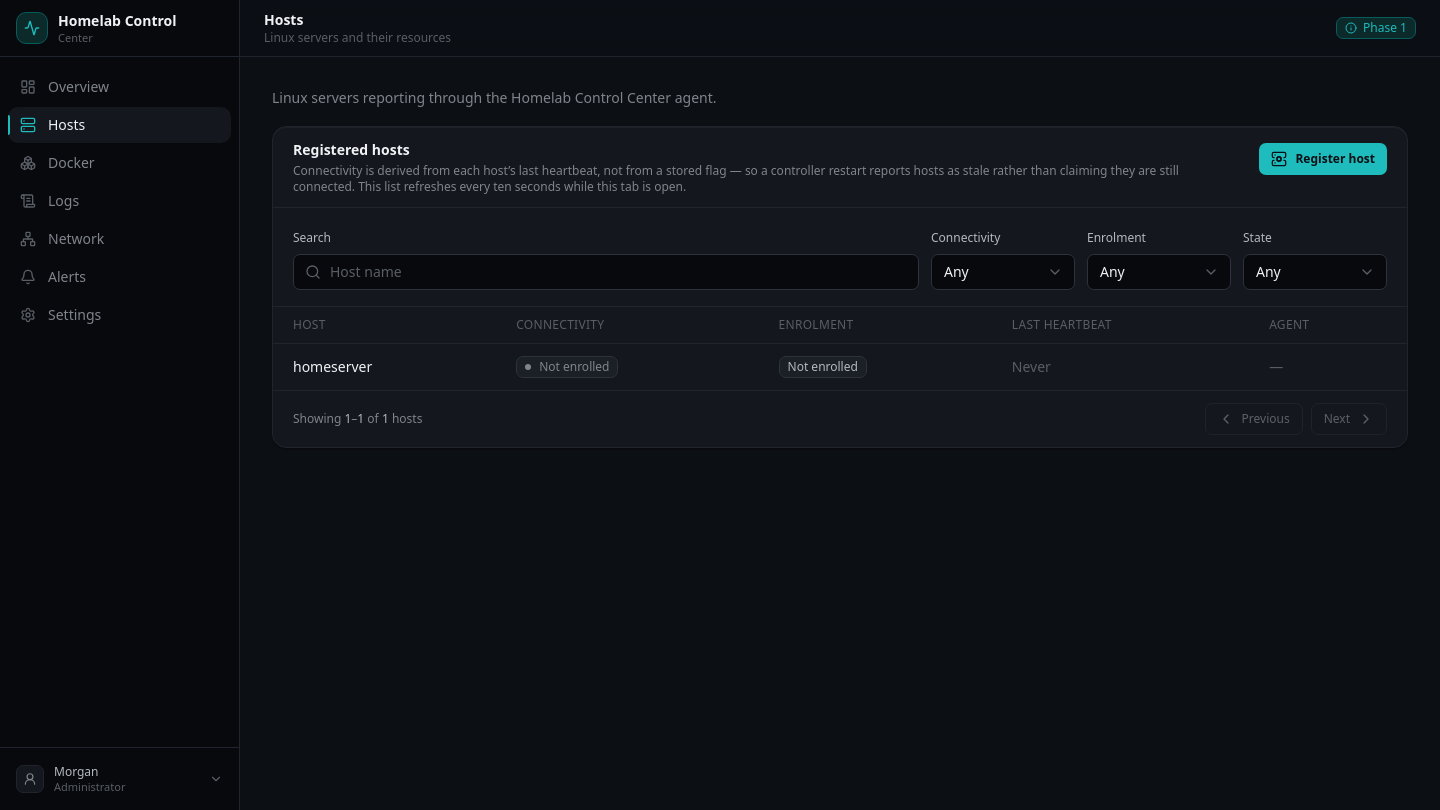
Test case: registering a host › shows the server's own message for a duplicate name
The width and height of the screenshot is (1440, 810).
Expected: the table named "registered hosts" is shown, x1=273 y1=306 x2=1407 y2=390
Click the button "Register host". click: [1323, 159]
box: x1=1259 y1=143 x2=1387 y2=175
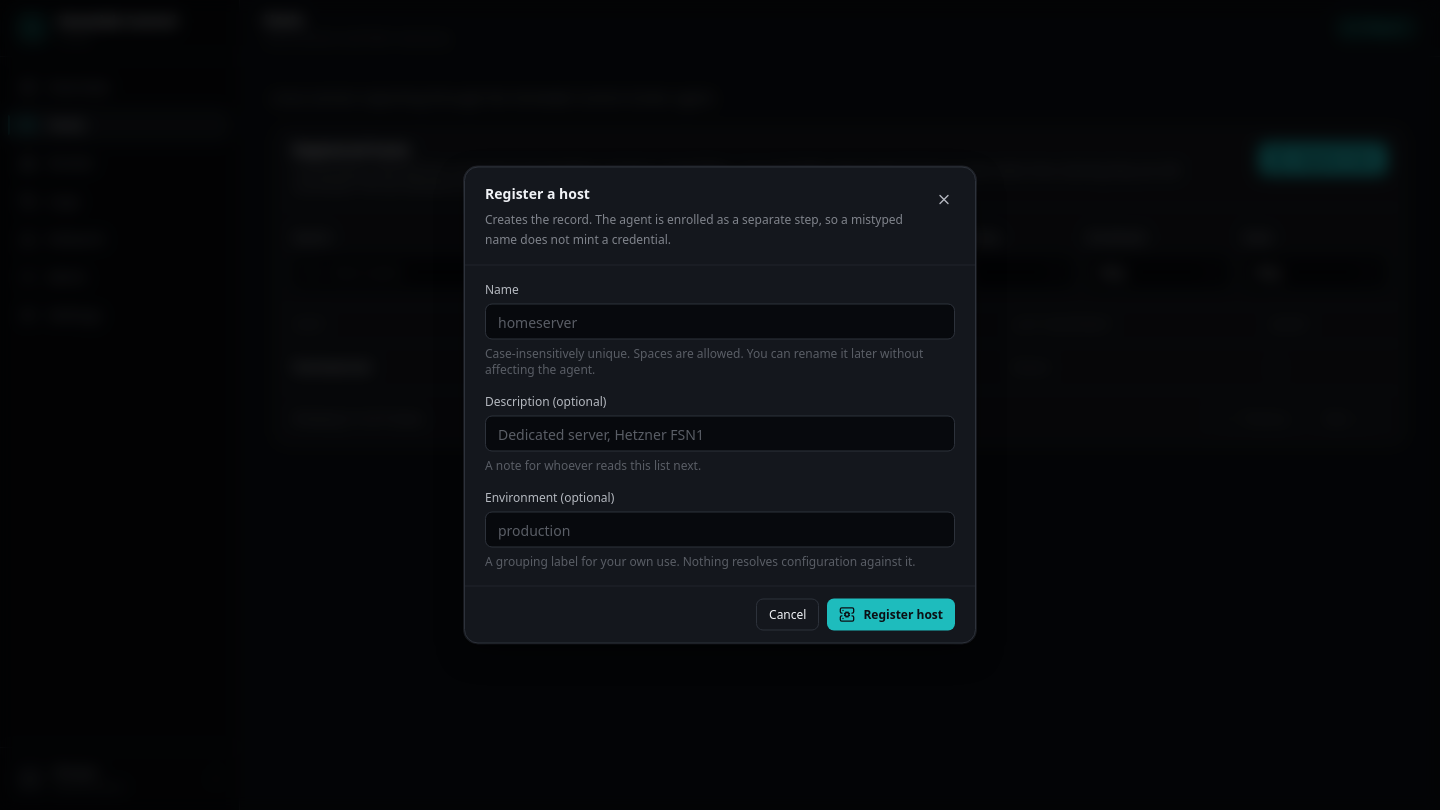
Type "HomeServer" into the field labelled "Name". click: [720, 322]
box: x1=485 y1=304 x2=955 y2=340
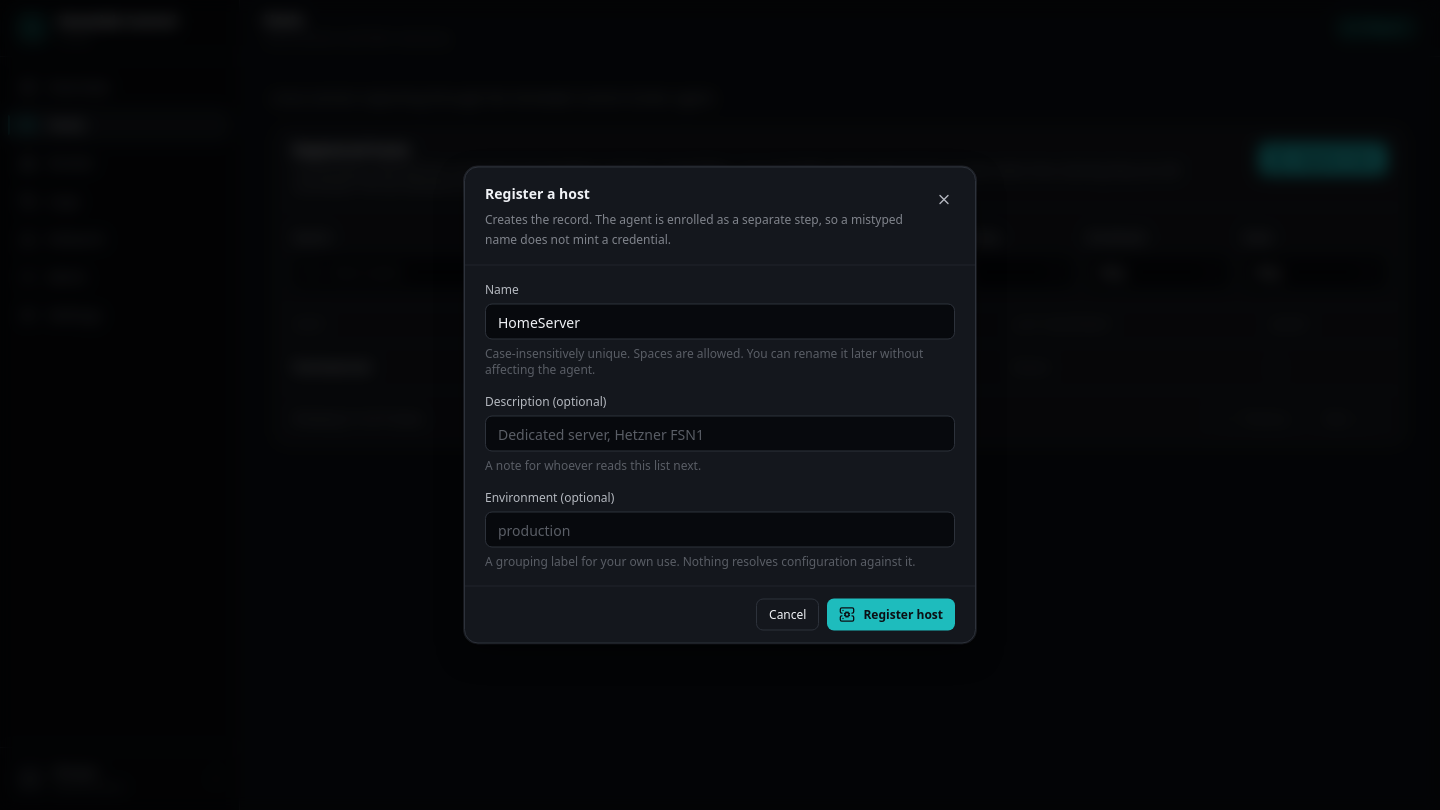
Click the button "Register host". click: [891, 614]
box: x1=827 y1=598 x2=955 y2=630
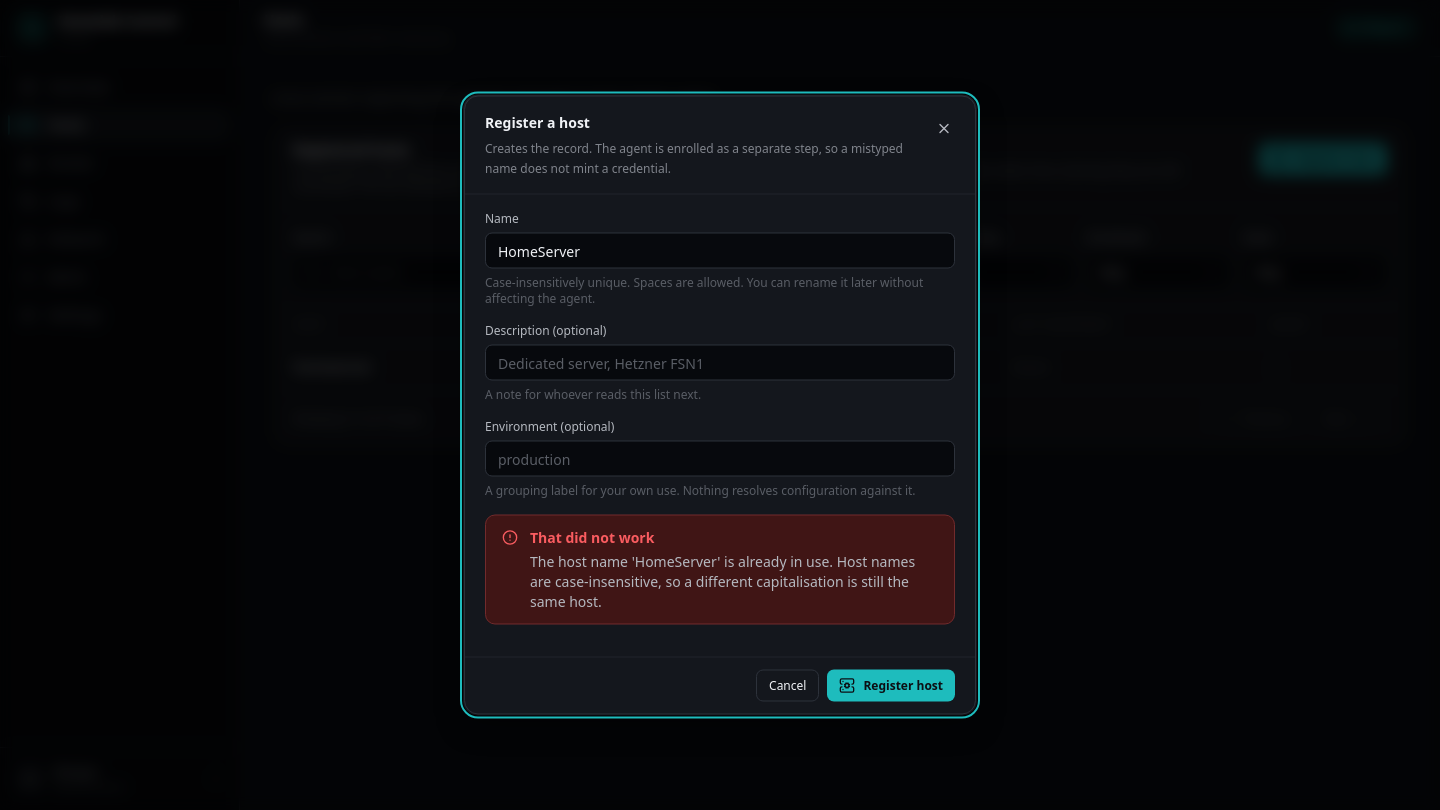
Expected: the text "The host name 'HomeServer' is already in use" is shown, x1=530 y1=552 x2=915 y2=610
